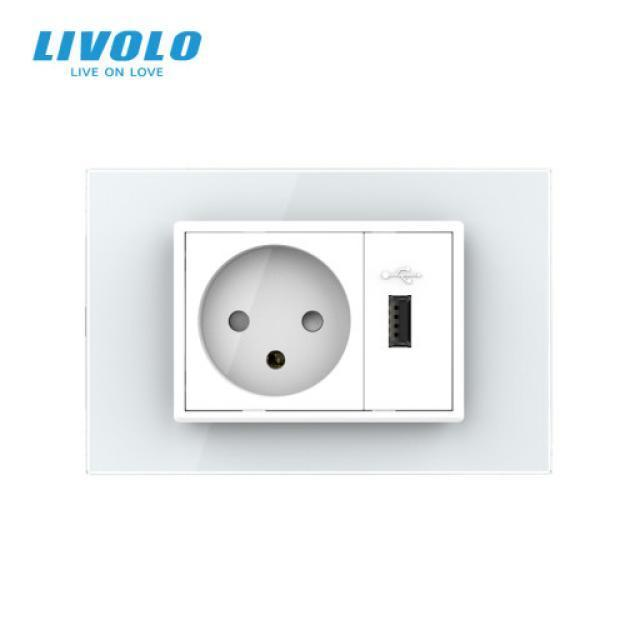typeb: (141, 190, 571, 457)
